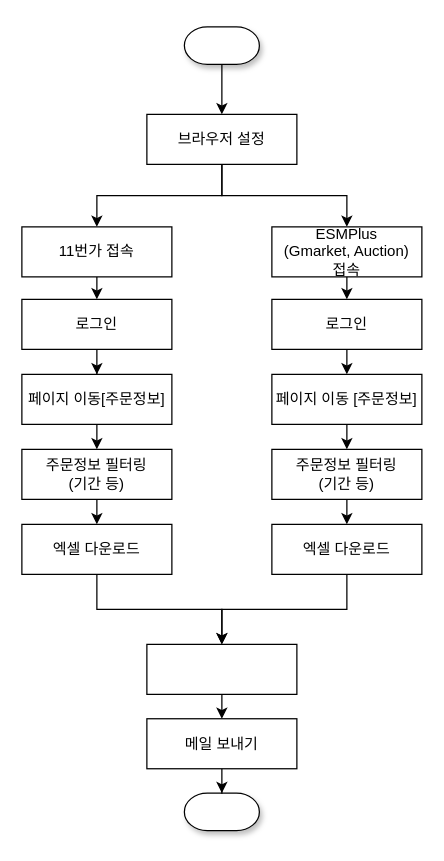
This 444x861 diagram has some shape labels left out. Each missing label, with the centre of its shape:
"End" goes at (222,813).
"Start" goes at (222,47).
"엑셀 취합 및 가공" goes at (221,668).
